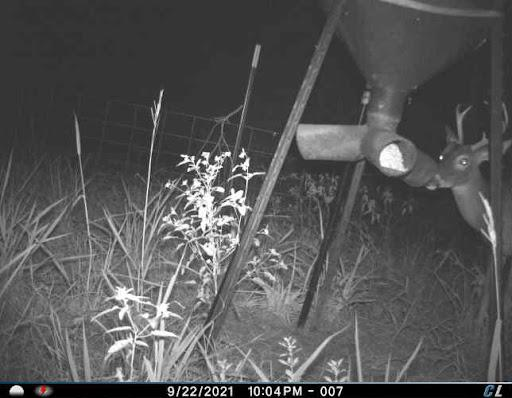Deer: (429, 91, 512, 331)
